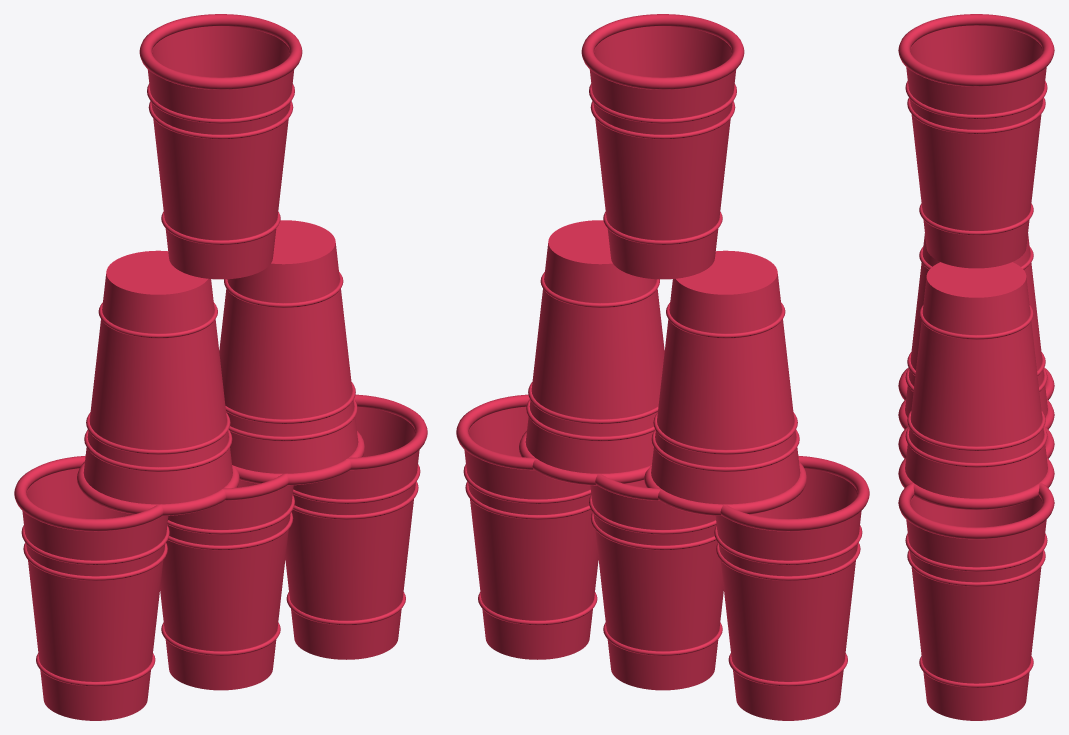
Rendered from dashboard-demo-6cup.glb.
The picture shows the model from 3 angles, left to right: view 1: azimuth 30°, elevation 25°; view 2: azimuth 150°, elevation 25°; view 3: azimuth 270°, elevation 25°; orthographic projection. The views are drawn at different scales.
Visible parts, largest first — view 1: Cup_6, Cup_4, Cup_5, Cup_1, Cup_3, Cup_2; view 2: Cup_6, Cup_4, Cup_5, Cup_1, Cup_3, Cup_2; view 3: Cup_6, Cup_5, Cup_3, Cup_4, Cup_2, Cup_1.
Boxes of the visible parts, x1,y1,x2,y2 form: Cup_6: (139,14,302,279); Cup_4: (77,250,239,515); Cup_5: (219,220,364,485); Cup_1: (14,455,169,720); Cup_3: (285,394,427,659); Cup_2: (160,473,294,690); Cup_6: (581,14,744,279); Cup_4: (644,250,806,515); Cup_5: (519,220,664,485); Cup_1: (714,455,869,720); Cup_3: (456,394,598,659); Cup_2: (589,473,723,690); Cup_6: (898,14,1054,268); Cup_5: (898,262,1054,509); Cup_3: (898,482,1054,720); Cup_4: (898,233,1054,429); Cup_2: (898,426,1054,458); Cup_1: (898,367,1054,399).
Bounding box in the file's own units: 4.69 × 7.11 × 1.69.
